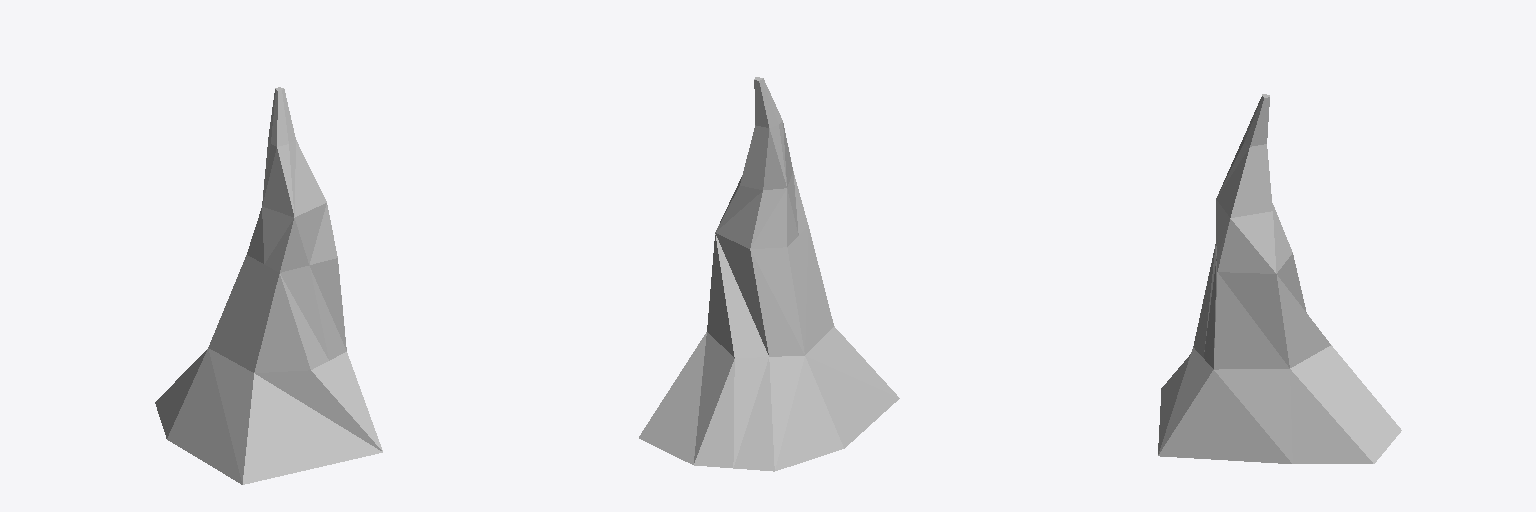
The model's file is Planta01.mtl.mtl.obj.
The picture shows the model from 3 angles: view 1: azimuth 30°, elevation 25°; view 2: azimuth 150°, elevation 25°; view 3: azimuth 270°, elevation 25°; orthographic projection.
Visible parts, largest first — view 1: Cube; view 2: Cube; view 3: Cube.
Boxes of the visible parts, x1,y1,x2,y2 form: Cube: [155, 87, 382, 484]; Cube: [639, 77, 899, 471]; Cube: [1158, 94, 1401, 463].
Bounding box in the file's own units: 4.31 × 8.35 × 5.5.